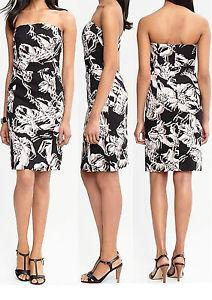C_dress: (140, 33, 205, 177), (79, 17, 131, 179), (8, 24, 64, 172)
C_sandals: (79, 252, 128, 288), (13, 248, 51, 288)
C_skirt: (9, 79, 64, 175)
C_tank top: (8, 11, 71, 73)
S_heels: (146, 252, 188, 287)
